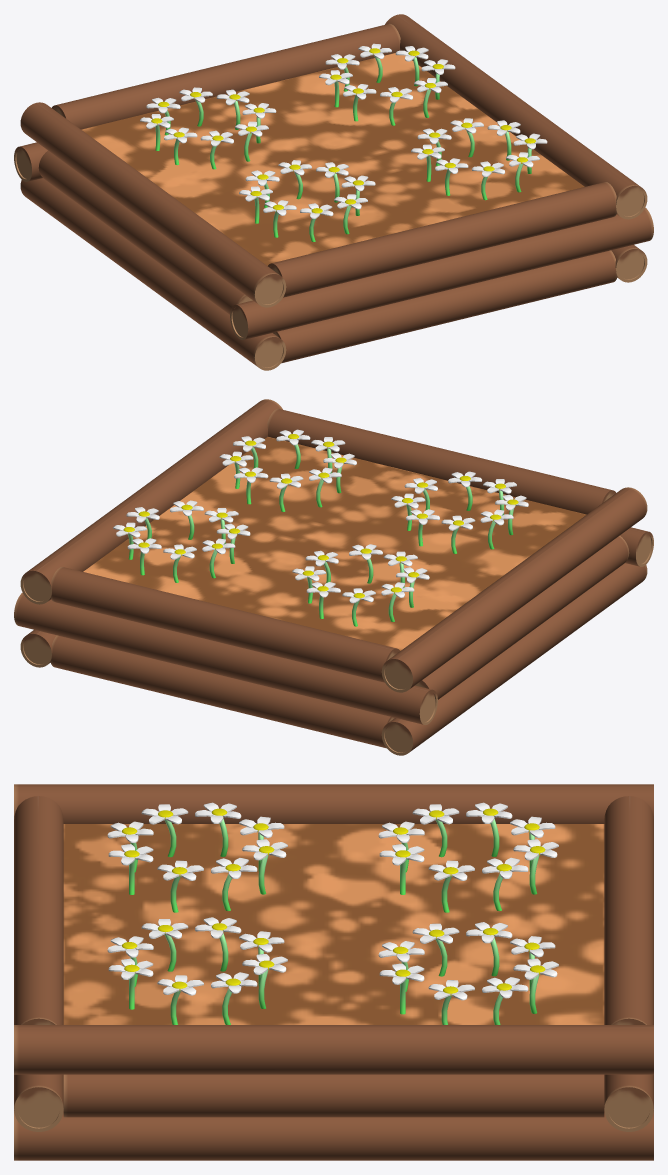
Rendered from littlegarden.fbx.
The picture shows the model from 3 angles, top to bottom: view 1: azimuth 30°, elevation 25°; view 2: azimuth 150°, elevation 25°; view 3: azimuth 270°, elevation 25°; orthographic projection. The views are drawn at different scales.
Parts seen in each view (by area): view 1: Cylinder.015, Cube.063, Cube.062, Cube.060, Cube.061; view 2: Cylinder.015, Cube.060, Cube.062, Cube.061, Cube.063; view 3: Cylinder.015, Cube.061, Cube.062, Cube.060, Cube.063.
Boxes of the visible parts, x1=… form: Cylinder.015: x1=14, y1=14, x2=653, y2=370; Cube.063: x1=319, y1=43, x2=455, y2=125; Cube.062: x1=140, y1=87, x2=276, y2=169; Cube.060: x1=411, y1=118, x2=547, y2=200; Cube.061: x1=239, y1=160, x2=375, y2=241; Cylinder.015: x1=14, y1=399, x2=653, y2=755; Cube.060: x1=219, y1=429, x2=356, y2=511; Cube.062: x1=292, y1=544, x2=429, y2=626; Cube.061: x1=391, y1=471, x2=528, y2=553; Cube.063: x1=113, y1=500, x2=250, y2=582; Cylinder.015: x1=14, y1=784, x2=653, y2=1160; Cube.061: x1=107, y1=802, x2=287, y2=912; Cube.062: x1=378, y1=802, x2=558, y2=912; Cube.060: x1=107, y1=917, x2=287, y2=1024; Cube.063: x1=378, y1=922, x2=558, y2=1024.
Bounding box in the file's own units: 236 × 61.09 × 236.
5 materials, 3 textured.
